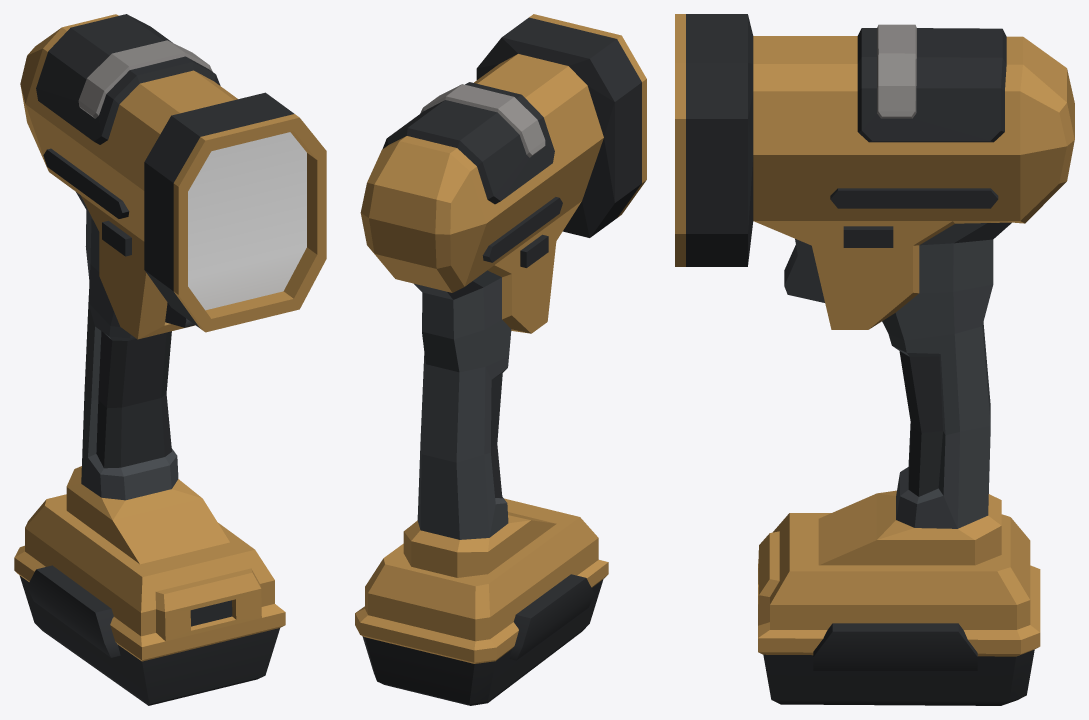
The model's file is SM_Tool_Torch_01.fbx.
3 views of the same model, side by side, from view 1: azimuth 30°, elevation 25°; view 2: azimuth 150°, elevation 25°; view 3: azimuth 270°, elevation 25° (orthographic). The views are drawn at different scales.
Visible parts, largest first — view 1: SM_Tool_Torch_01, SM_Tool_Torch_01_Battery; view 2: SM_Tool_Torch_01, SM_Tool_Torch_01_Battery; view 3: SM_Tool_Torch_01, SM_Tool_Torch_01_Battery, SM_Tool_Torch_01_Triger.
Part boxes in pixels (x1,y1,x2,y2): SM_Tool_Torch_01: (20,14,326,636); SM_Tool_Torch_01_Battery: (14,545,285,705); SM_Tool_Torch_01: (360,14,646,641); SM_Tool_Torch_01_Battery: (355,560,608,705); SM_Tool_Torch_01: (675,14,1074,629); SM_Tool_Torch_01_Battery: (758,531,1040,705); SM_Tool_Torch_01_Triger: (784,239,824,302).
Bounding box in the file's own units: 12.52 × 43.09 × 24.47.
